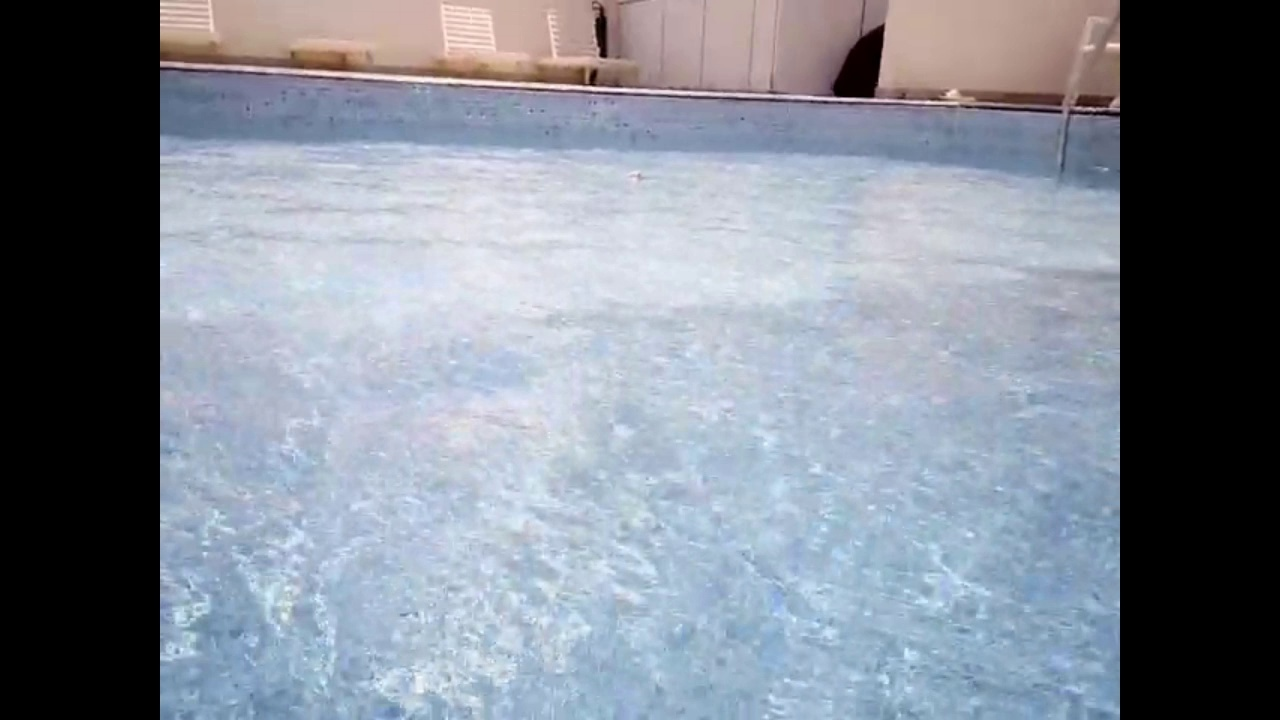debris: (619, 165, 643, 184)
